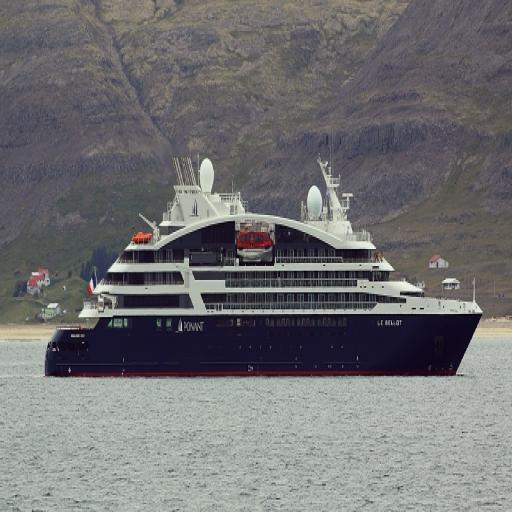cruises: (45, 140, 488, 389)
